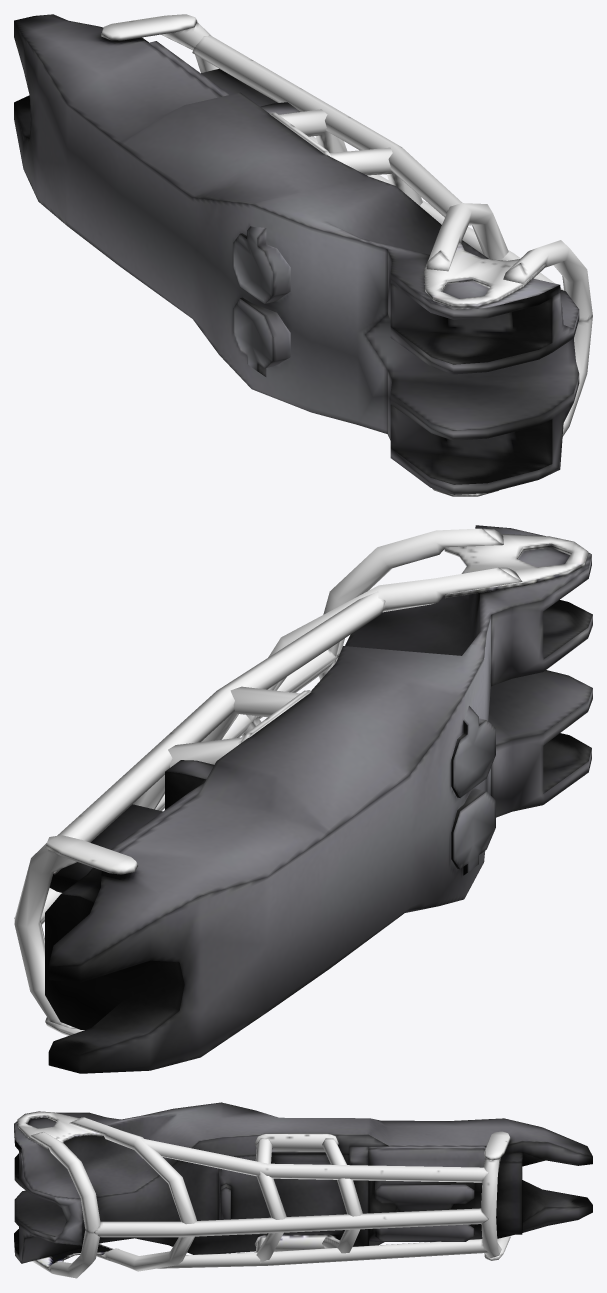
File: l_lleg.dae
3 renders of one model, top to bottom at view 1: azimuth 30°, elevation 25°; view 2: azimuth 150°, elevation 25°; view 3: azimuth 270°, elevation 25°, orthographic. The views are drawn at different scales.
Visible parts, largest first — view 1: l_lleg; view 2: l_lleg; view 3: l_lleg.
Part boxes in pixels (<box>): l_lleg: <box>14,14,592,496</box>; l_lleg: <box>14,525,592,1073</box>; l_lleg: <box>14,1102,592,1278</box>.
Size of the model in its own units: 0.1367 by 0.116 by 0.4522.
1 material, 1 textured.
